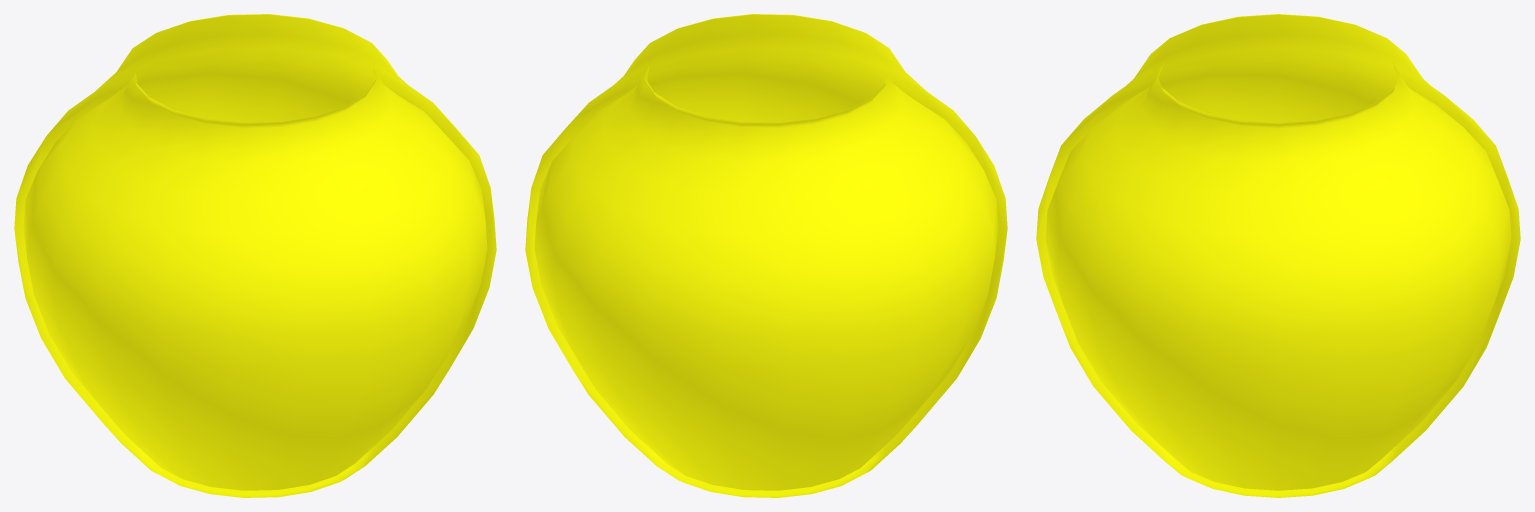
File: SM_Acc2Group_pueblos_pottery1.glb
3 views of the same model, side by side, from view 1: azimuth 30°, elevation 25°; view 2: azimuth 150°, elevation 25°; view 3: azimuth 270°, elevation 25° (orthographic).
Visible parts, largest first — view 1: SM_Acc2Group_pueblos_pottery1; view 2: SM_Acc2Group_pueblos_pottery1; view 3: SM_Acc2Group_pueblos_pottery1.
Boxes of the visible parts, left/top/right/bottom form: SM_Acc2Group_pueblos_pottery1: left=14, top=14, right=496, bottom=497; SM_Acc2Group_pueblos_pottery1: left=525, top=14, right=1007, bottom=497; SM_Acc2Group_pueblos_pottery1: left=1036, top=14, right=1520, bottom=497.
Size of the model in its own units: 0.3415 by 0.2986 by 0.3415.
1 material, 1 textured.
